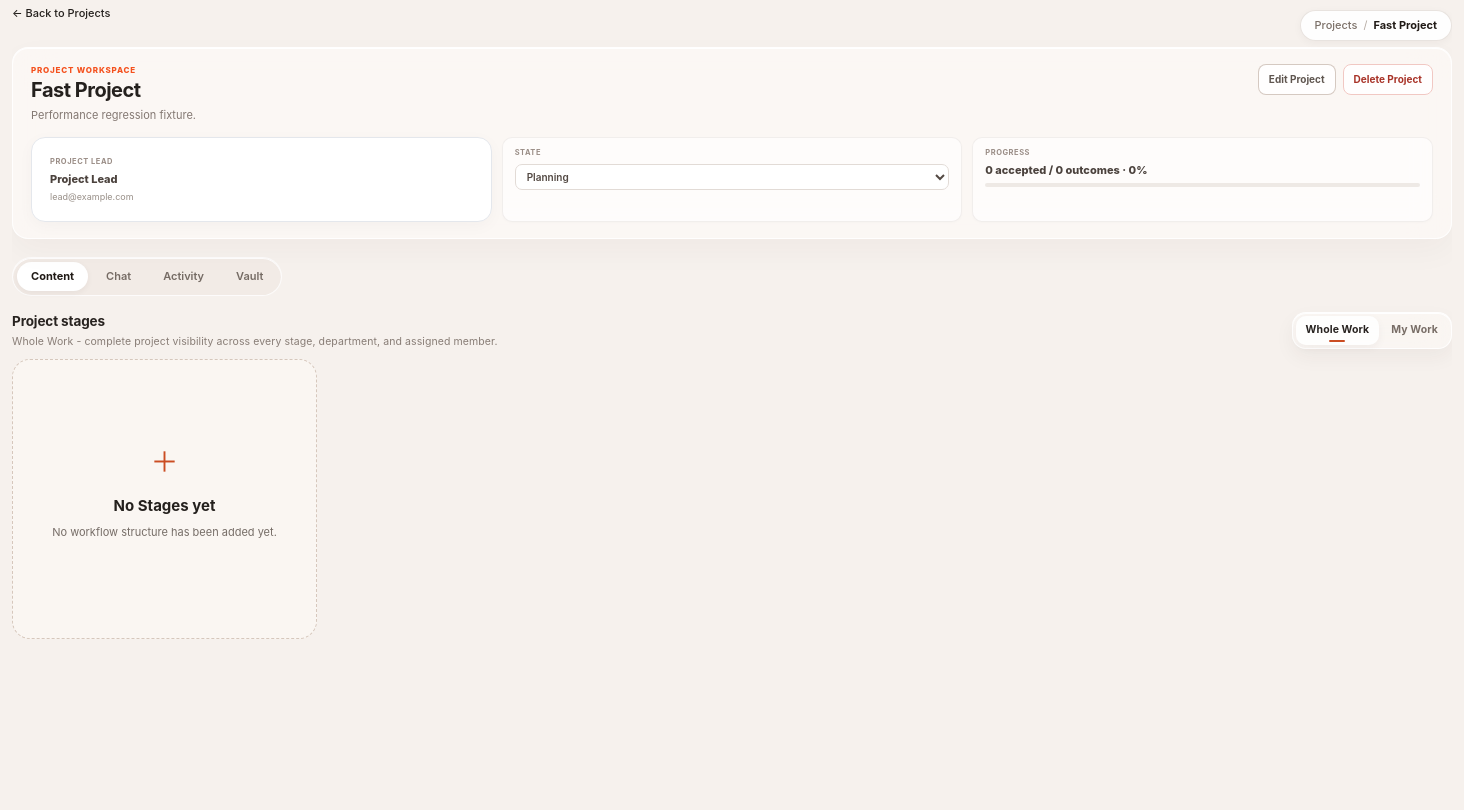
Test case: ProjectOverviewPage status mutation › opens the Project Activity tab and loads persisted events
Step 1. Click the tab "Activity" → [184, 277], box [149,262,218,291]
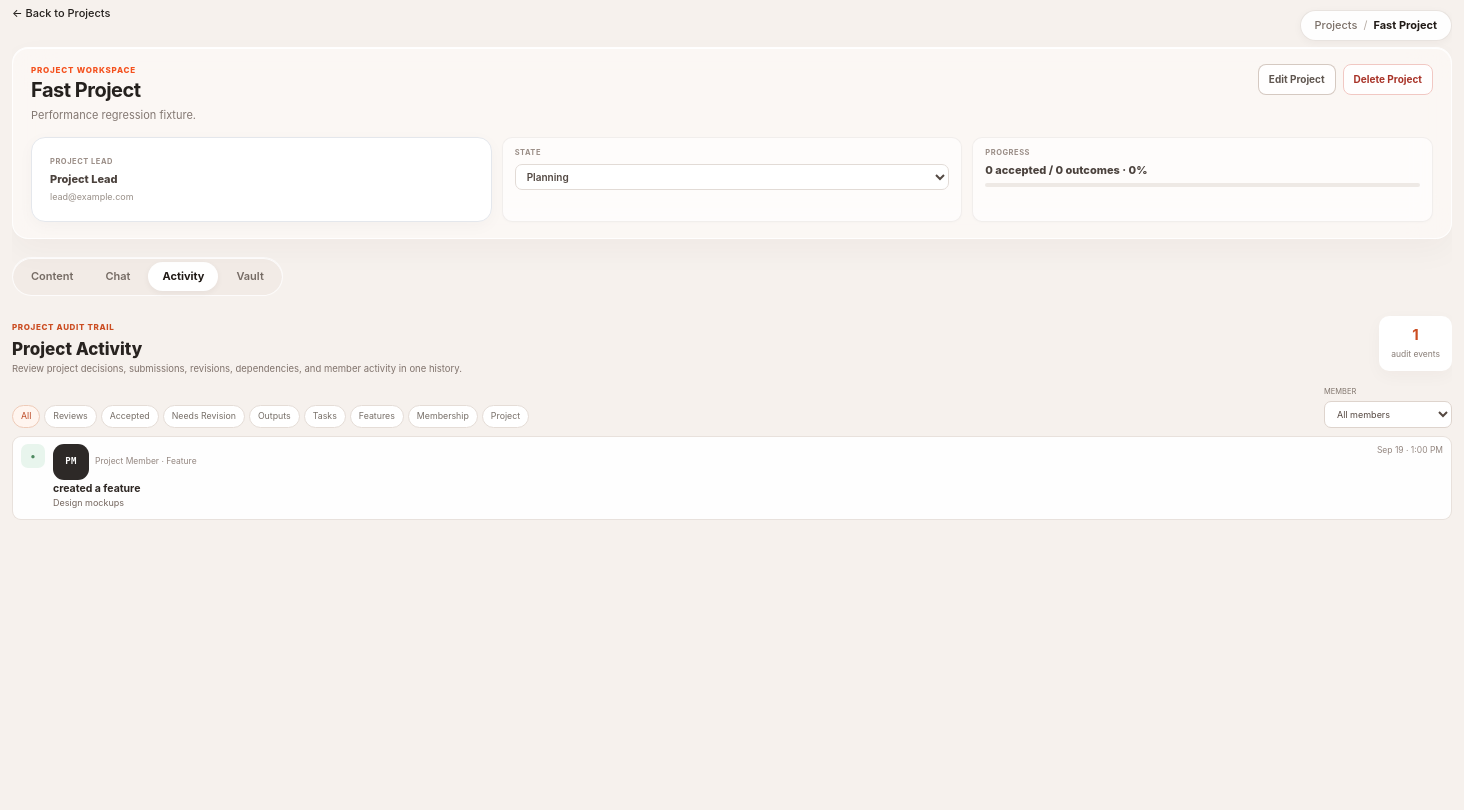
Now the heading "Project Activity" is shown, box [12,339,142,359]
Now the text "created a feature" is shown, box [53,482,140,495]
Now the text "Design mockups" is shown, box [53,498,124,508]
Step 2. Click the tab "Content" → [52, 277], box [17,262,87,291]
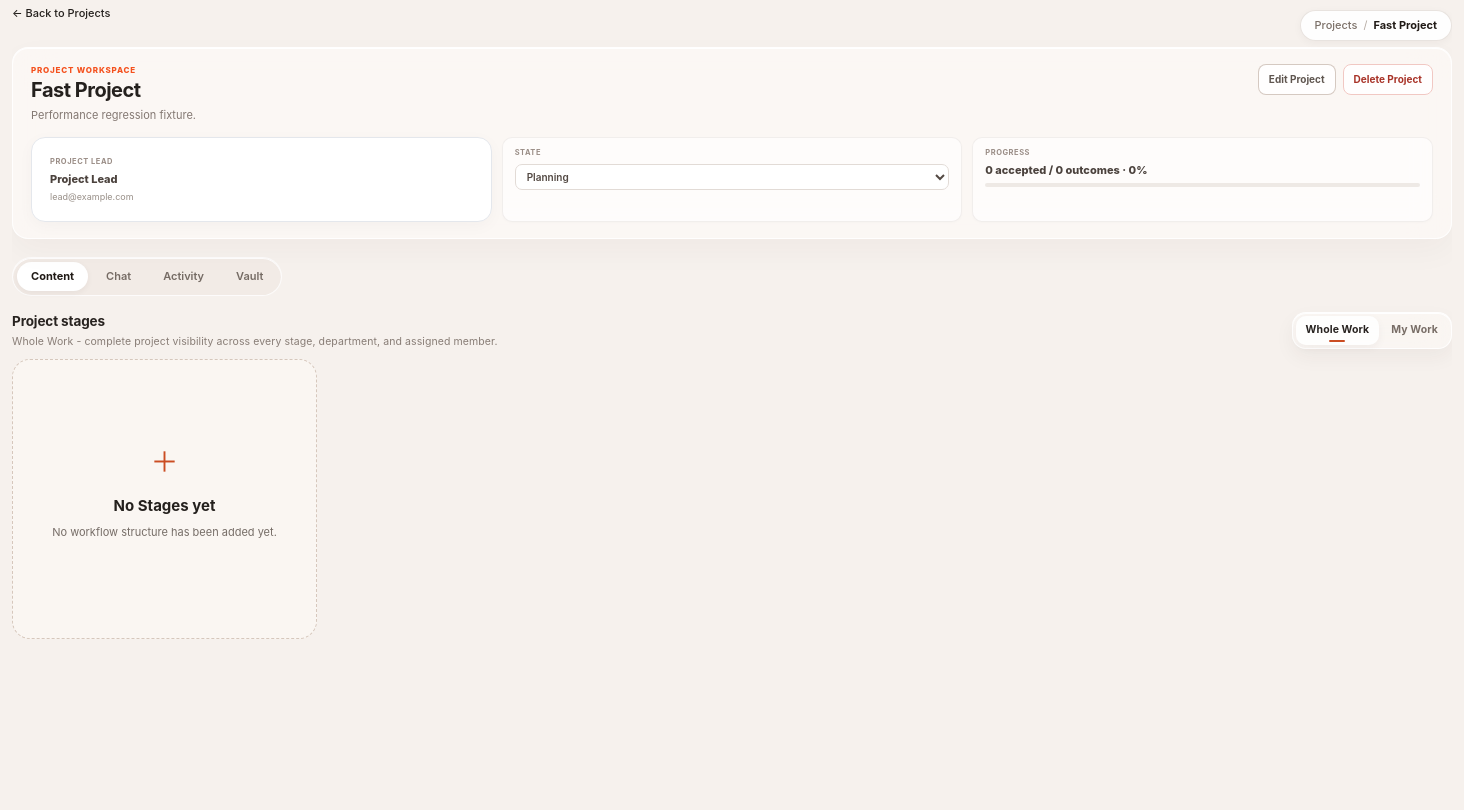
Now the heading "Project Activity" is gone
